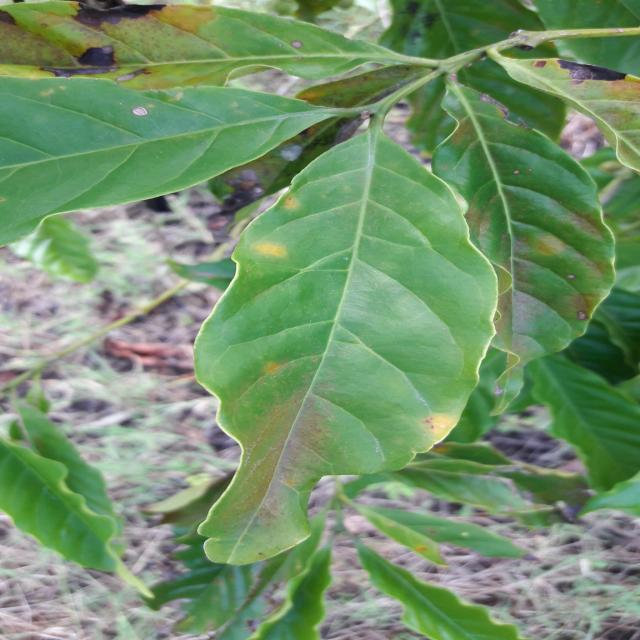Enfermedad-Roya: (194, 129, 499, 569)
